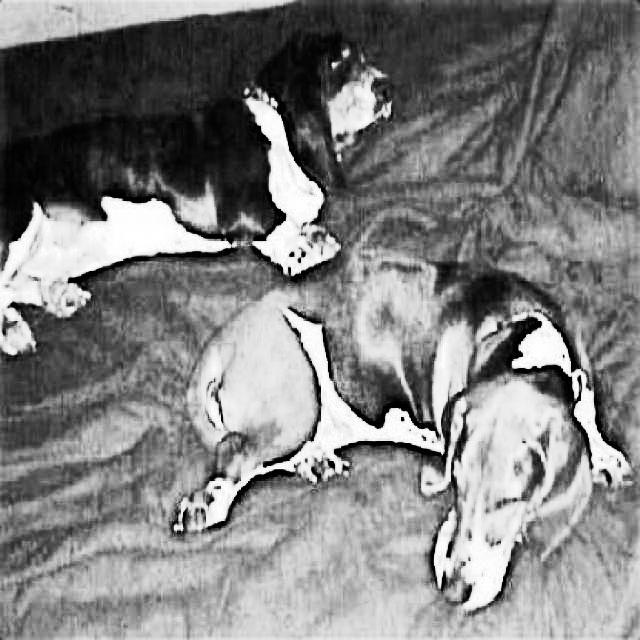Dog: (169, 246, 626, 612), (0, 13, 406, 364)
